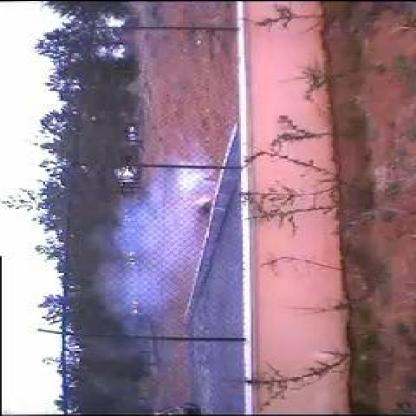-: (91, 160, 242, 336)
